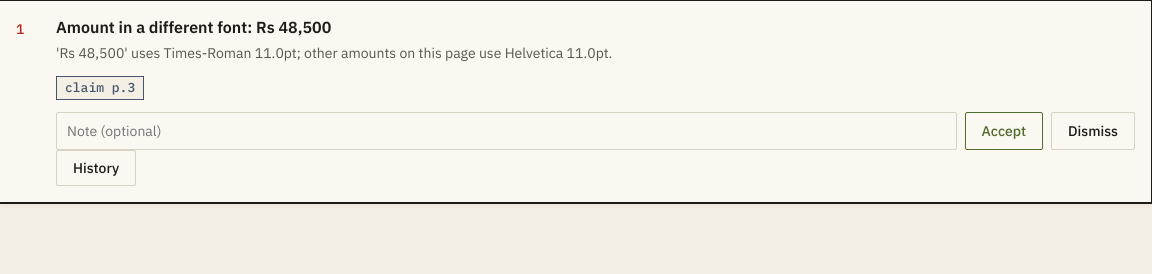
Test case: history › the History link loads and lists versions
Click the button "History": x=96, y=168 [56,150,136,186]
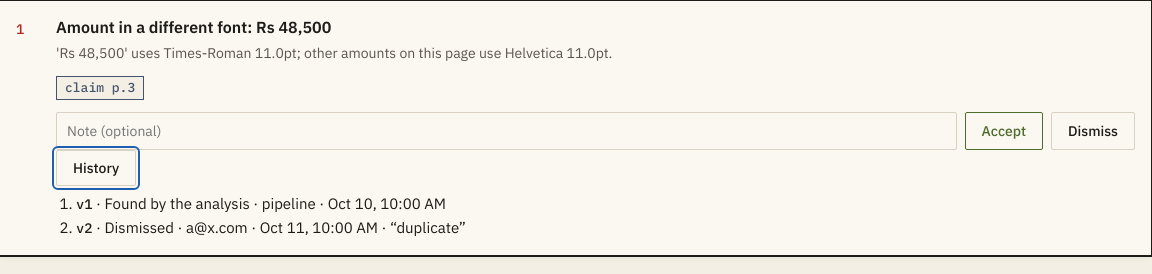
Expected: the number of list items is 2, [76,194,446,213]; [76,218,466,237]
Expected: the list item "v1 · Found by the analysis · pipeline · Oct 10, 10:00 AM" is shown, [76,194,446,213]
Expected: the list item "v2 · Dismissed · a@x.com · Oct 11, 10:00 AM · “duplicate”" is shown, [76,218,466,237]
